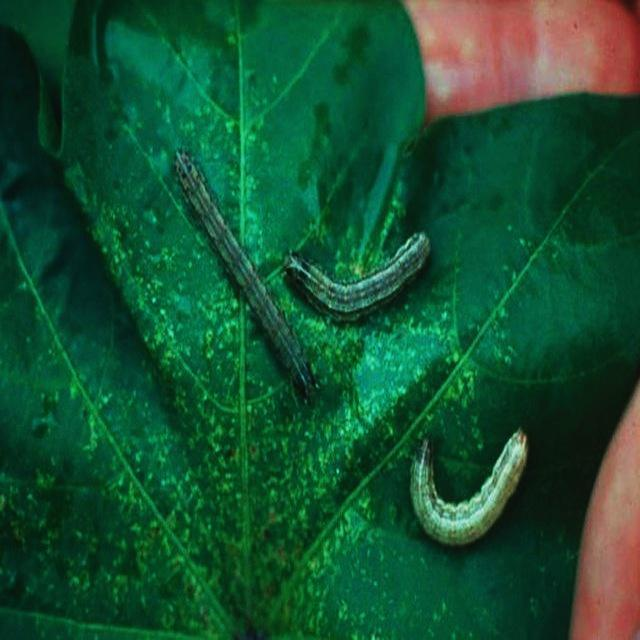gusano_cogollero: (170, 152, 315, 384), (408, 428, 532, 544), (296, 236, 426, 316)
